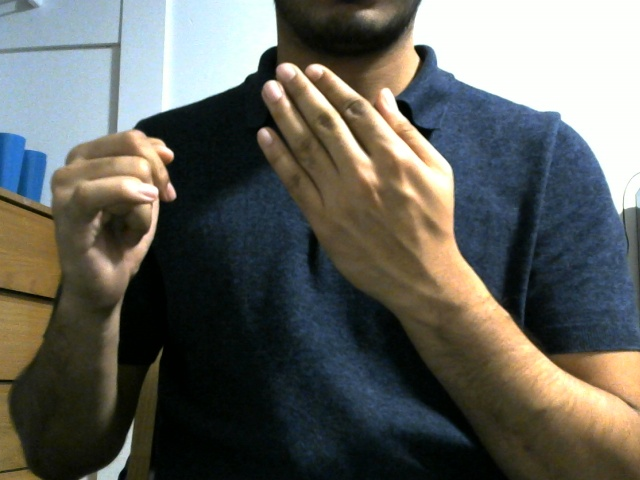Project: (46, 47, 485, 321)
